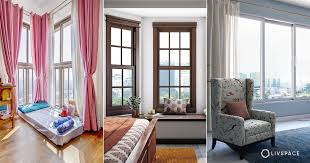Window: (240, 17, 309, 96), (156, 29, 191, 107), (111, 30, 133, 107), (53, 26, 75, 103)
